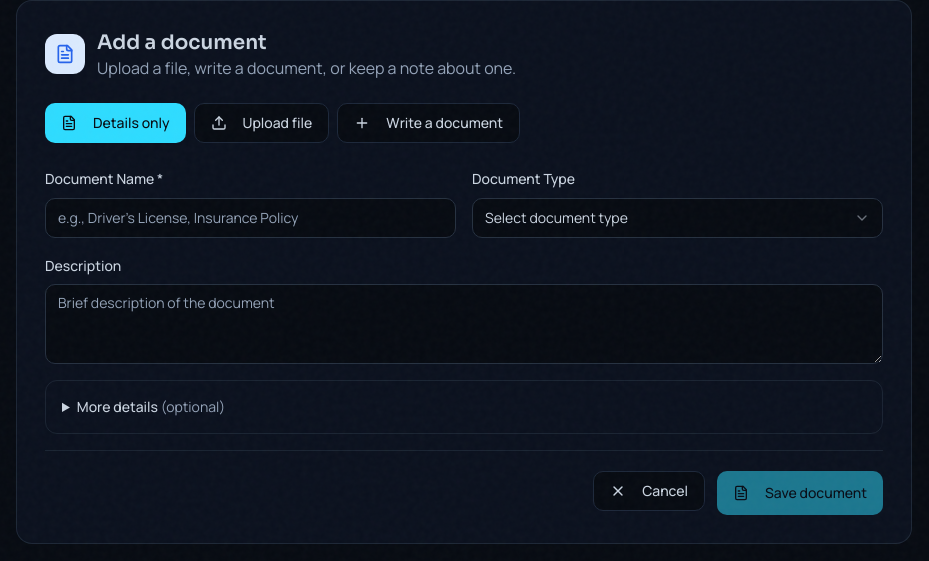
Test case: Document save recovery › waits for save completion before accepting another submission
The width and height of the screenshot is (929, 561).
Type "Document note" into the field labelled "Document Name *" at (250, 218), box [45,198,456,238]
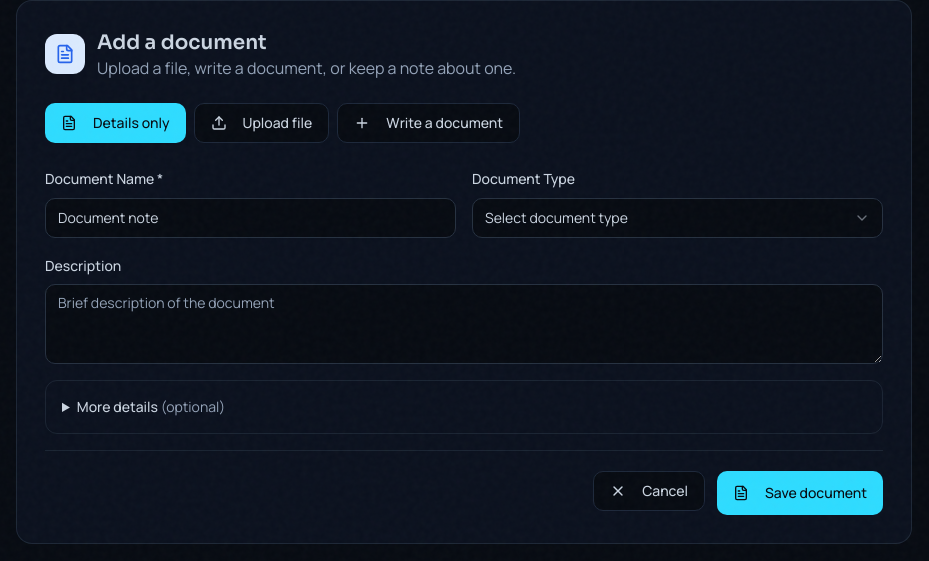
Click the button "Save document" at (800, 493), box [717,471,883,515]
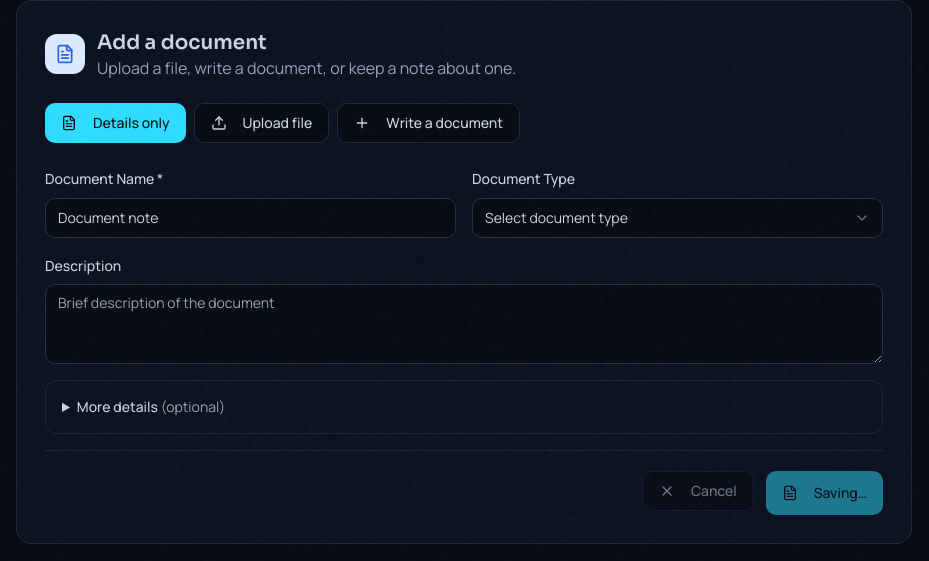
Check: the button "Saving…" is disabled
Click the button "Saving…" at (824, 493), box [766,471,883,515]
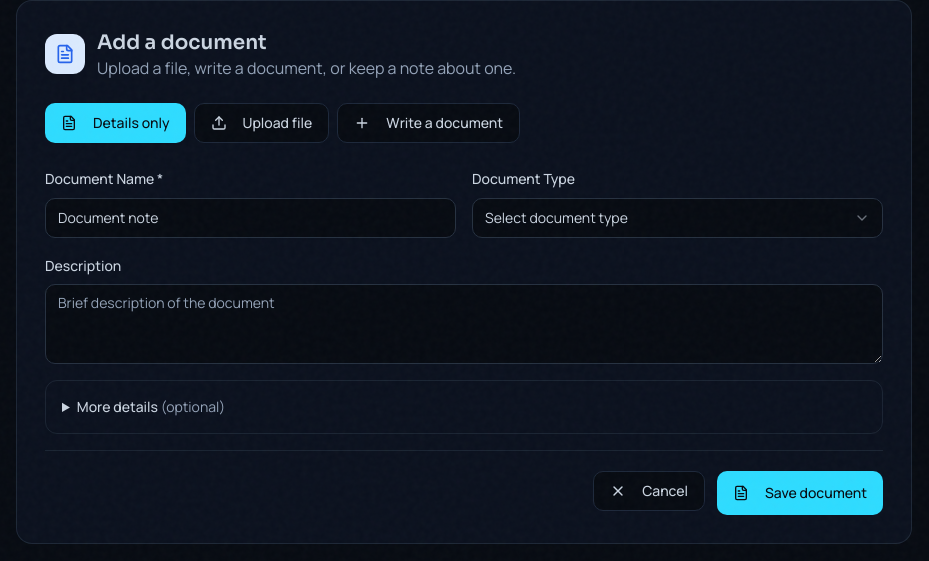
Check: the button "Save document" is shown, box [717,471,883,515]
